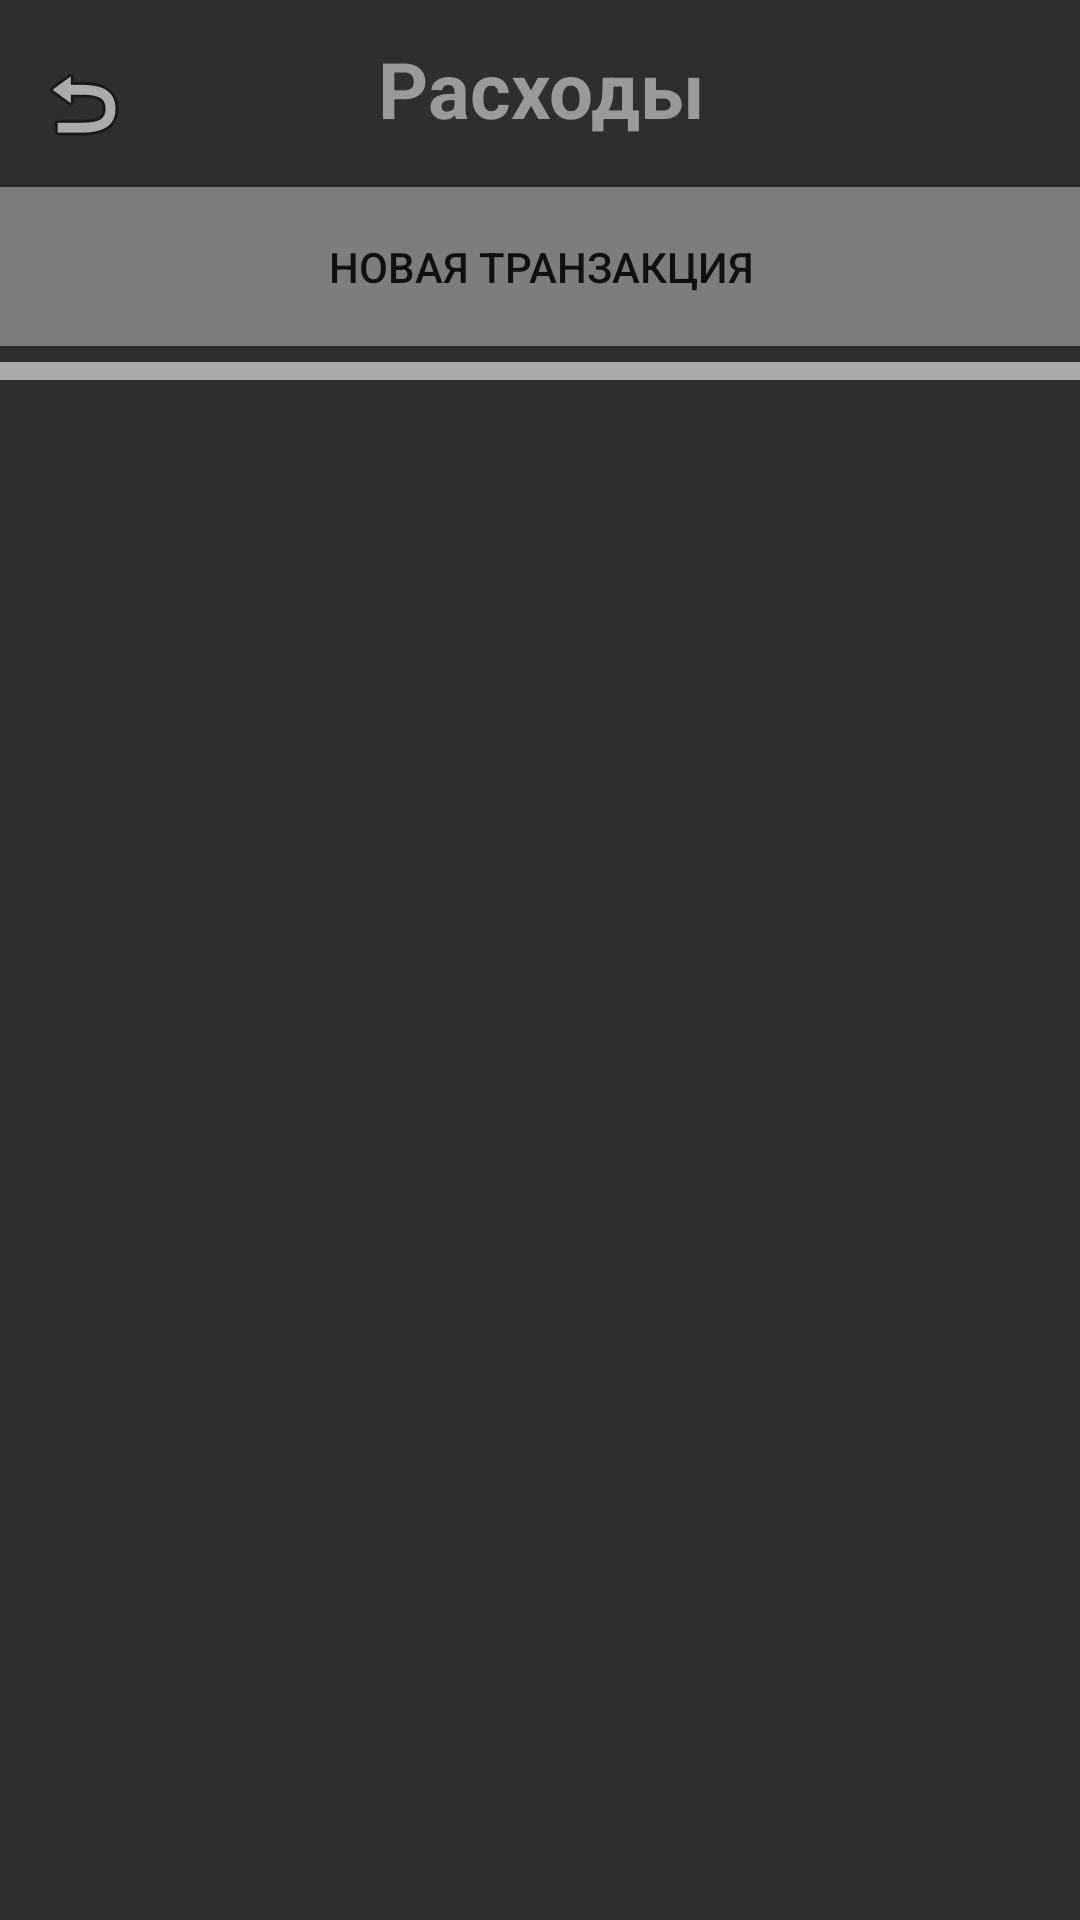

Point at icon controls on the screen. Image size 1080px×1920px, points as (x=x, y=y).
revert: (x=84, y=104)
